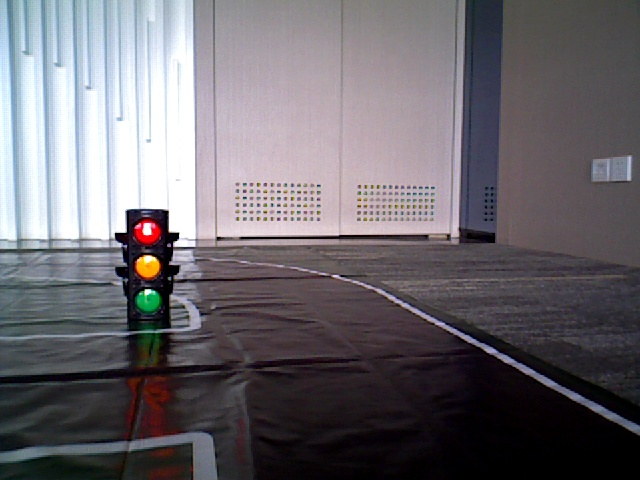red: (129, 213, 168, 315)
